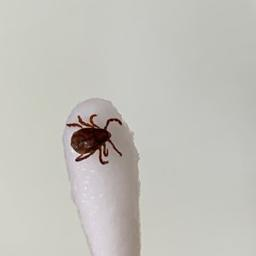Rhipicephalus sanguineus: (63, 115, 123, 166)
